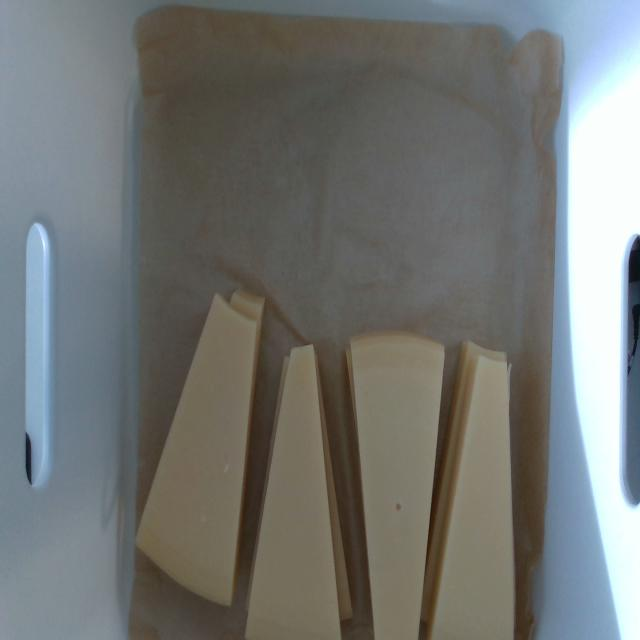Cheese: (137, 293, 257, 604), (348, 335, 444, 639), (246, 346, 340, 637), (432, 352, 514, 639)
